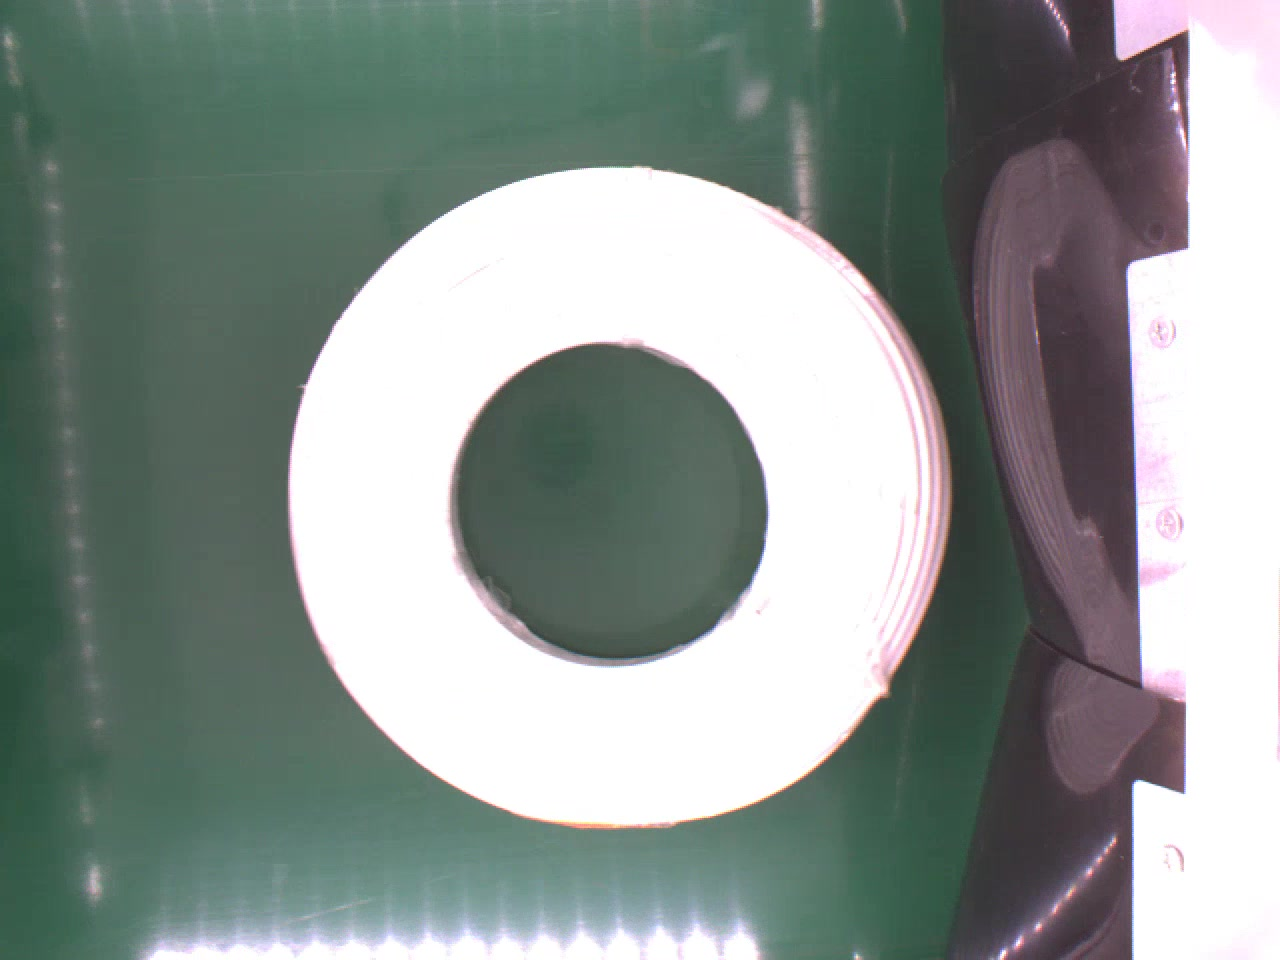white: (280, 154, 962, 827)
